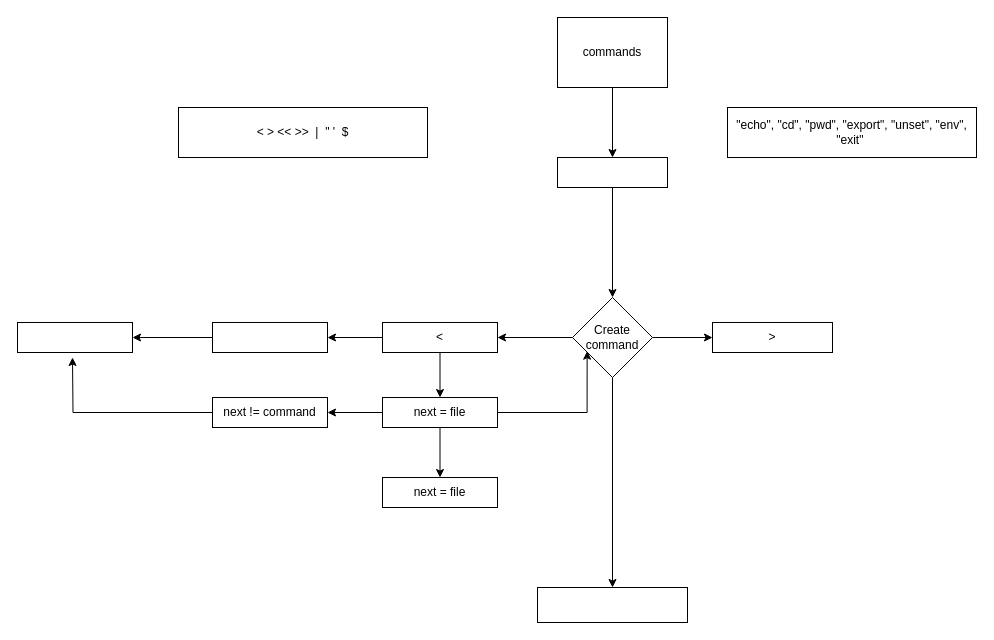
Some shapes in this 994 by 640 pixel diagram are drawn without their labels. The centre of each missing label's shape, as x and y in pixels:
"generate all tokens" goes at (612,172).
"next != file" goes at (270,337).
"return error" goes at (74,337).
"string" goes at (612,604).
